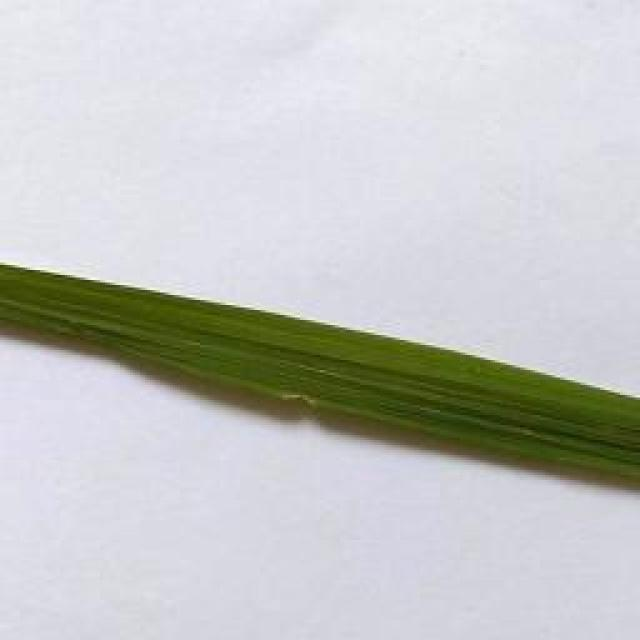Healthy-Plant: (0, 252, 640, 504)
